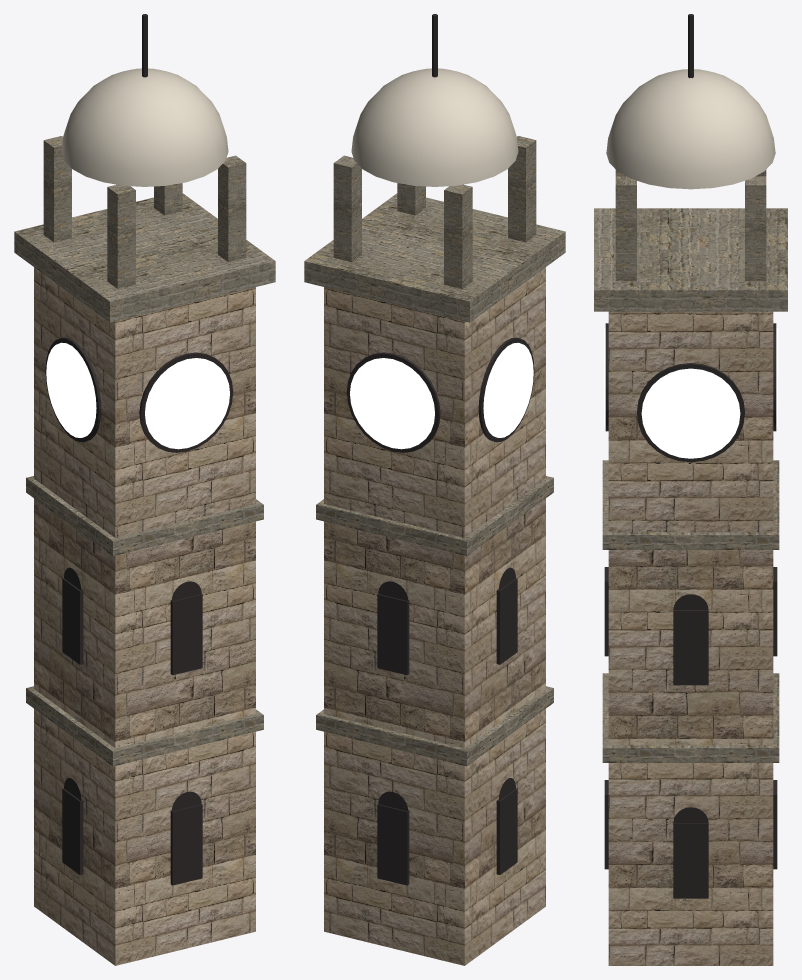
The model's file is cairo_clock_tower.glb.
The picture shows the model from 3 angles, left to right: view 1: azimuth 30°, elevation 25°; view 2: azimuth 150°, elevation 25°; view 3: azimuth 270°, elevation 25°; orthographic projection.
Parts seen in each view (by area): view 1: cairo_clock_tower; view 2: cairo_clock_tower; view 3: cairo_clock_tower.
Part boxes in pixels (left/top/right/bottom): cairo_clock_tower: left=14, top=14, right=275, bottom=965; cairo_clock_tower: left=304, top=14, right=565, bottom=965; cairo_clock_tower: left=594, top=14, right=787, bottom=965.
Bounding box in the file's own units: 1.65 × 8.6 × 1.65.
5 materials, 2 textured.
